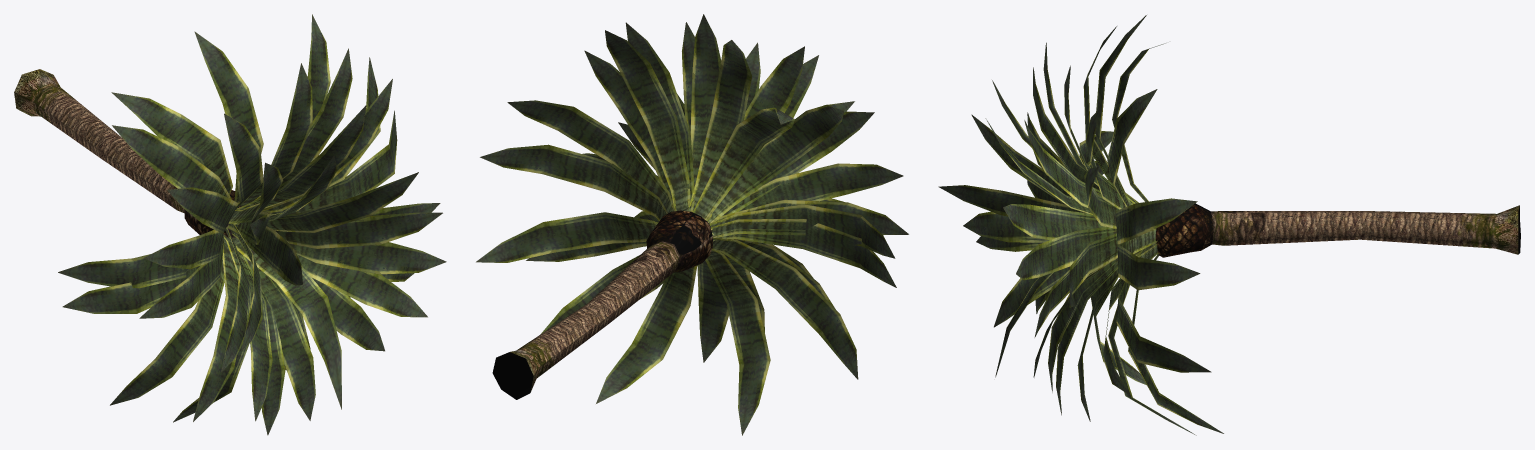
File: Palm2.FBX
3 views of the same model, side by side, from view 1: azimuth 30°, elevation 25°; view 2: azimuth 150°, elevation 25°; view 3: azimuth 270°, elevation 25° (orthographic). The views are drawn at different scales.
Parts seen in each view (by area): view 1: ENV_MP_Iraq_PalmTree_01; view 2: ENV_MP_Iraq_PalmTree_01; view 3: ENV_MP_Iraq_PalmTree_01.
Boxes of the visible parts, x1,y1,x2,y2 form: ENV_MP_Iraq_PalmTree_01: (14,14,446,435); ENV_MP_Iraq_PalmTree_01: (476,14,908,435); ENV_MP_Iraq_PalmTree_01: (938,15,1520,435).
Size of the model in its own units: 81.19 by 111 by 80.31.
